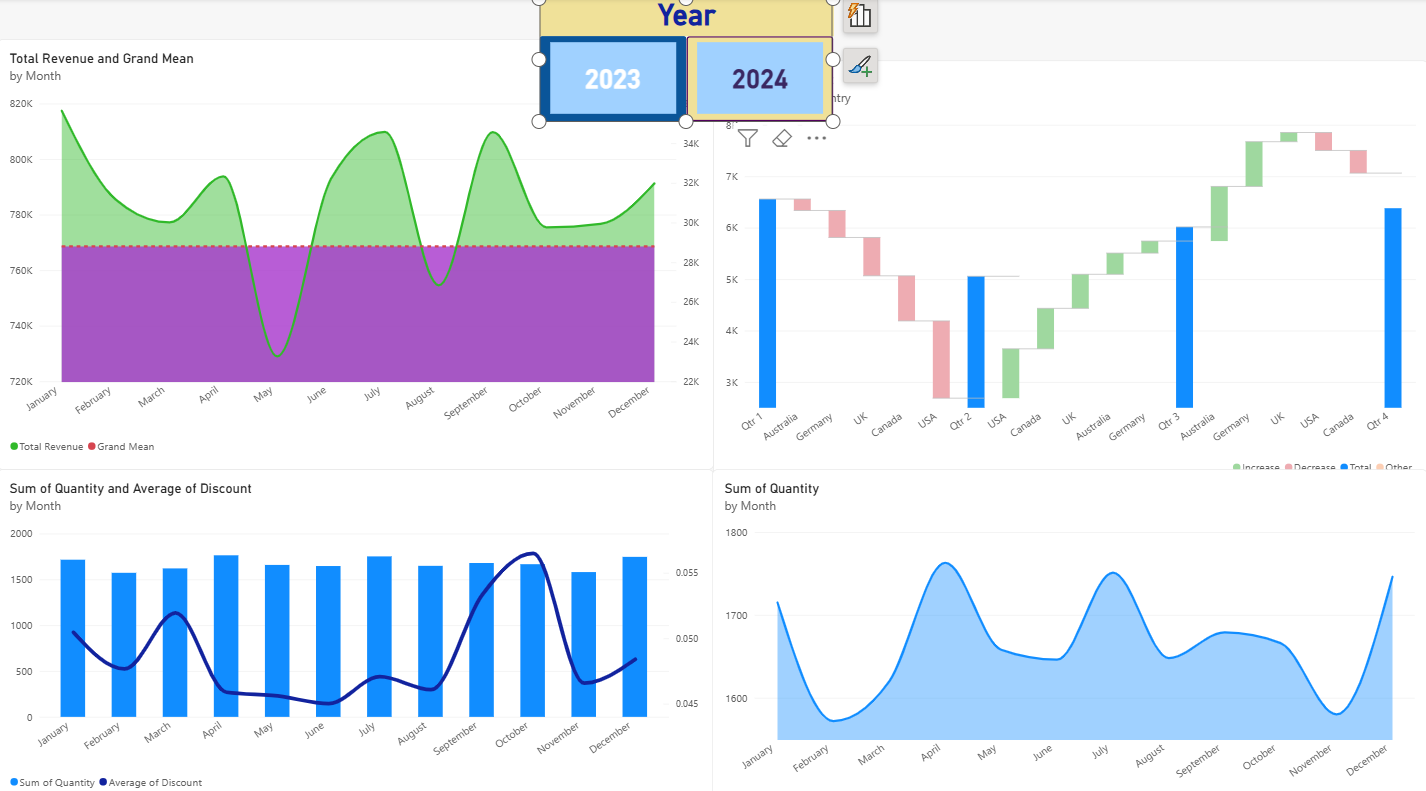

What the dashboard file says about the page in this screenshot:
{"tool":"powerbi","page":{"name":"descriptive page","canvas":[1920,1080],"ordinal":1},"visuals":[{"type":"lineChart","fields":{"Category":["Dim Date.Date.Variation.Date Hierarchy.Month"],"Y":["Fact_Sales.Total Revenue"],"Y2":["Fact_Sales.Grand Mean"]},"box":[0,55,960.9,576.6],"z":0},{"type":"waterfallChart","fields":{"Breakdown":["Stores.Location.Country"],"Category":["Dim Date.Date.Variation.Date Hierarchy.Quarter"],"Y":["Max(Fact_Sales.Total Profit)"]},"box":[960,83.7,958.6,576.6],"z":1},{"type":"advancedSlicerVisual","fields":{"Values":["Dim Date.Date.Variation.Date Hierarchy.Year"]},"box":[726.6,0,394.1,165.1],"z":3},{"type":"lineClusteredColumnComboChart","fields":{"Category":["Dim Date.Date.Variation.Date Hierarchy.Month"],"Y":["Sum(Fact_Sales.Quantity)"],"Y2":["Avg(Fact_Sales.Discount)"]},"box":[0,631.9,961,450],"z":4},{"type":"stackedAreaChart","fields":{"Category":["Dim Date.Date.Variation.Date Hierarchy.Month"],"Y":["Sum(Fact_Sales.Quantity)"]},"box":[957.8,631.9,959,450],"z":5}]}

Visuals, with their boxes on the page's 1920x1080 design canvas (x1, y1, x2, y2). These are canvas units, not pixel positions in the 1426x791 screenshot, which may show the page scaled, cropped or inside an application window:
lineChart - Dim Date.Date.Variation.Date Hierarchy.Month x Fact_Sales.Total Revenue: {"x1": 0, "y1": 55, "x2": 961, "y2": 632}
waterfallChart - Stores.Location.Country x Dim Date.Date.Variation.Date Hierarchy.Quarter: {"x1": 960, "y1": 84, "x2": 1919, "y2": 660}
advancedSlicerVisual - Dim Date.Date.Variation.Date Hierarchy.Year: {"x1": 727, "y1": 0, "x2": 1121, "y2": 165}
lineClusteredColumnComboChart - Dim Date.Date.Variation.Date Hierarchy.Month x Sum(Fact_Sales.Quantity): {"x1": 0, "y1": 632, "x2": 961, "y2": 1082}
stackedAreaChart - Dim Date.Date.Variation.Date Hierarchy.Month x Sum(Fact_Sales.Quantity): {"x1": 958, "y1": 632, "x2": 1917, "y2": 1082}
